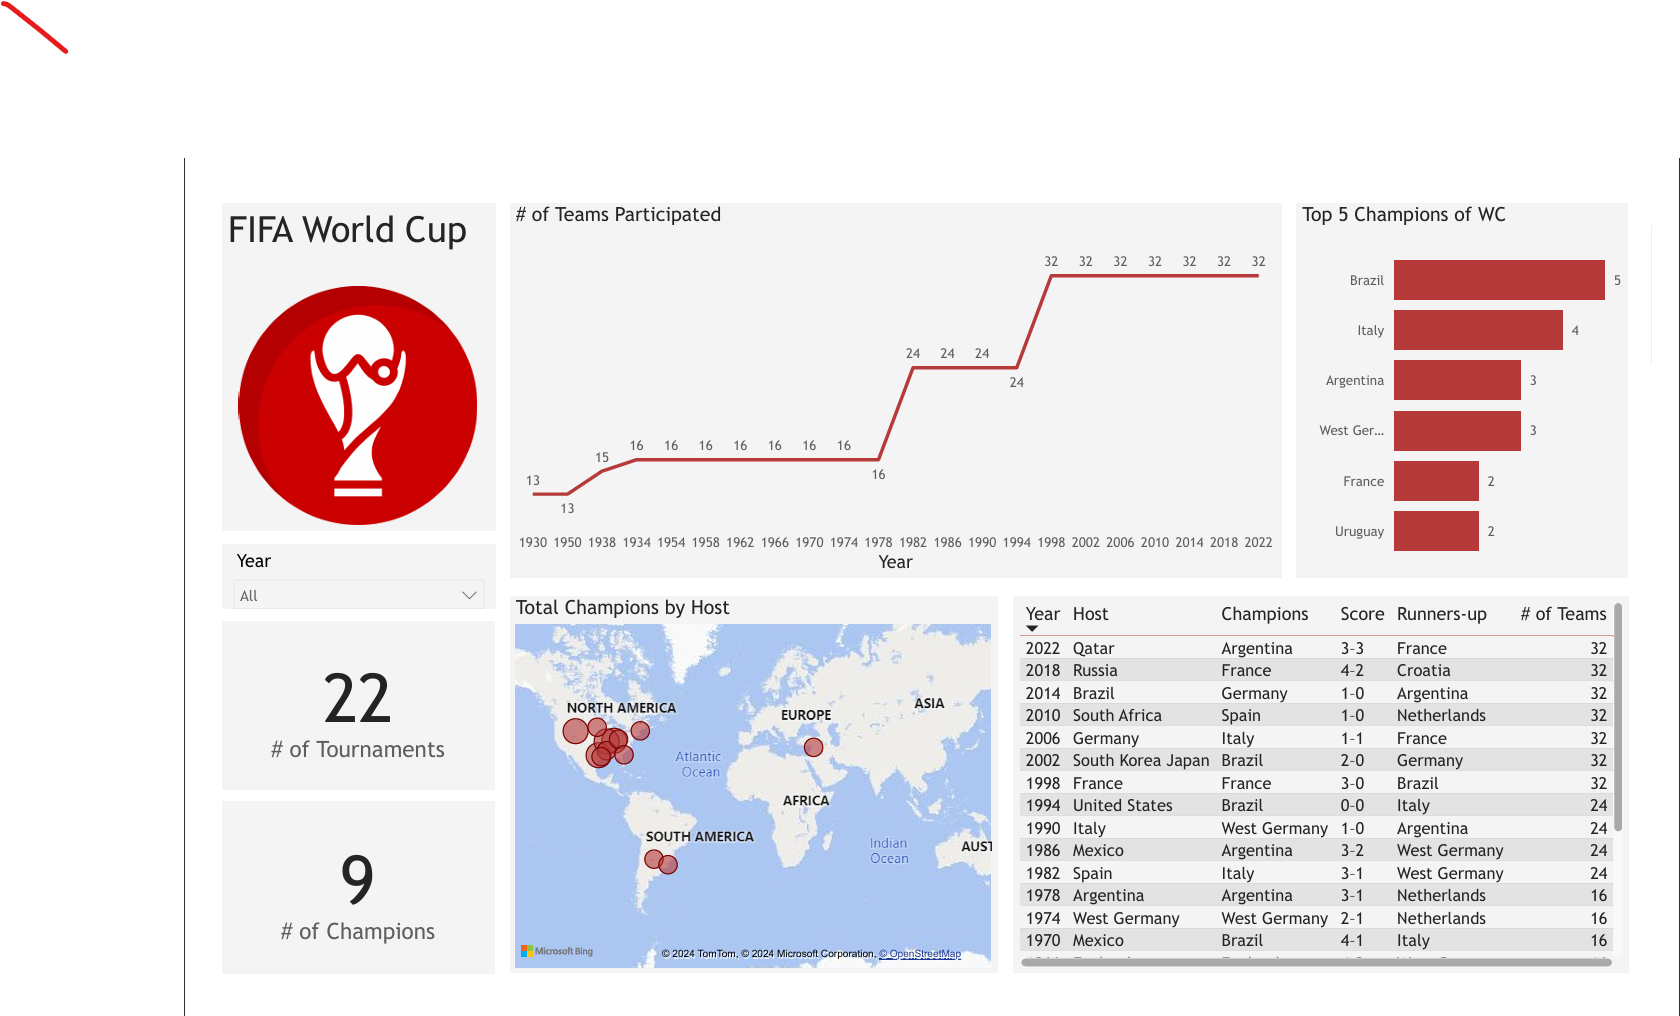

Layout of this report page (visuals, bound fields, positions):
{"tool":"powerbi","page":{"name":"Page 2","canvas":[1280,720],"ordinal":0},"visuals":[{"type":"map","fields":{"Category":["World Cup.Host"],"Size":["CountNonNull(World Cup.Champions)"]},"box":[265.4,340.2,433.1,361.9],"z":0},{"type":"barChart","title":"Top 5 Champions of WC","fields":{"Category":["World Cup.Champions"],"Y":["CountNonNull(World Cup.Champions)"]},"box":[895.2,18.1,375.2,306.4],"z":1000},{"type":"lineChart","title":"# of National Teams Participated","fields":{"Category":["World Cup.Year"],"Y":["Sum(World Cup.# of Teams)"]},"box":[265.4,18.1,617.7,306.4],"z":2000},{"type":"tableEx","fields":{"Values":["World Cup.Year","World Cup.Host","World Cup.Champions","World Cup.Score","World Cup.Runners-up","World Cup.# of Teams"]},"box":[713,340.2,557.4,361.9],"z":3000},{"type":"card","fields":{"Values":["Count(World Cup.Year)"]},"box":[7.2,284.7,244.9,136.3],"z":4000},{"type":"textbox","box":[8.4,18.1,243.7,188.2],"z":5000},{"type":"card","fields":{"Values":["Count(World Cup.Champions)"]},"box":[9.7,563.4,240.1,138.7],"z":6000},{"type":"image","box":[8.4,73.6,241.3,132.7],"z":7000},{"type":"slicer","fields":{"Values":["World Cup.Year"]},"box":[8.4,217.2,243.7,56.7],"z":8000},{"type":"card","fields":{"Values":["World Cup.Total Teams"]},"box":[9.7,430.7,240.1,123.1],"z":9000}]}

Visuals, with their boxes on the page's 1280x720 design canvas (x1, y1, x2, y2). These are canvas units, not pixel positions in the 1680x1016 screenshot, which may show the page scaled, cropped or inside an application window:
map - World Cup.Host x CountNonNull(World Cup.Champions): box(265, 340, 698, 702)
"Top 5 Champions of WC" barChart: box(895, 18, 1270, 324)
"# of National Teams Participated" lineChart: box(265, 18, 883, 324)
tableEx - World Cup.Year x World Cup.Host: box(713, 340, 1270, 702)
card - Count(World Cup.Year): box(7, 285, 252, 421)
textbox: box(8, 18, 252, 206)
card - Count(World Cup.Champions): box(10, 563, 250, 702)
image: box(8, 74, 250, 206)
slicer - World Cup.Year: box(8, 217, 252, 274)
card - World Cup.Total Teams: box(10, 431, 250, 554)
